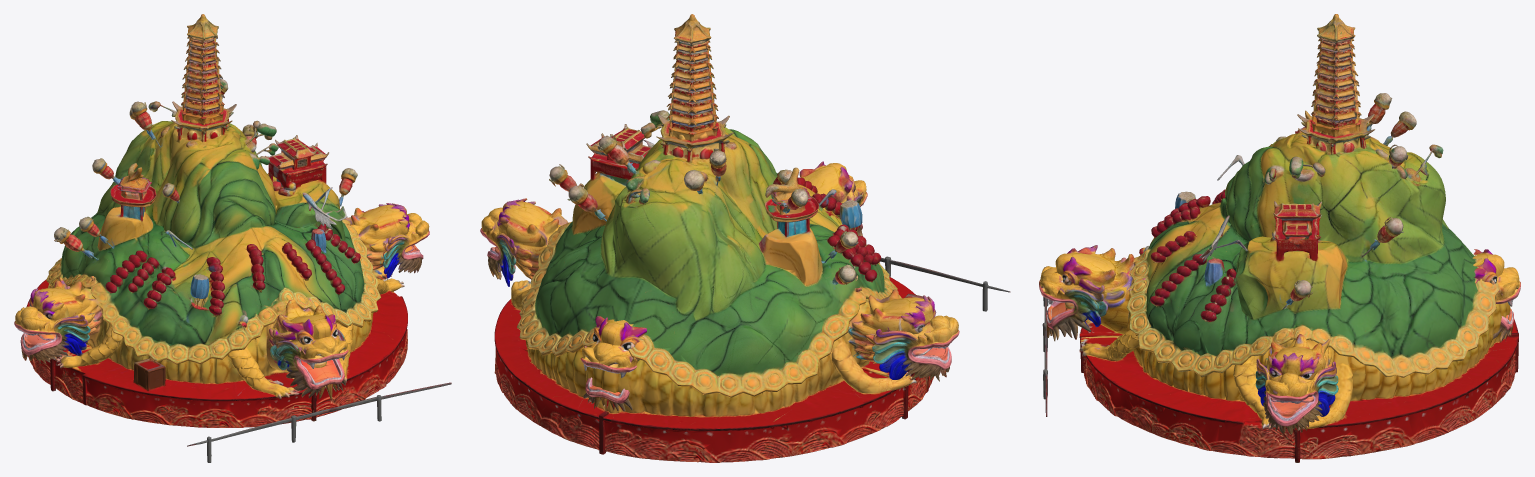
File: mountain.glb
The picture shows the model from 3 angles, left to right: view 1: azimuth 30°, elevation 25°; view 2: azimuth 150°, elevation 25°; view 3: azimuth 270°, elevation 25°; orthographic projection. The views are drawn at different scales.
Bounding box in the file's own units: 1.9 × 1.44 × 1.75.
1 material, 1 textured.
